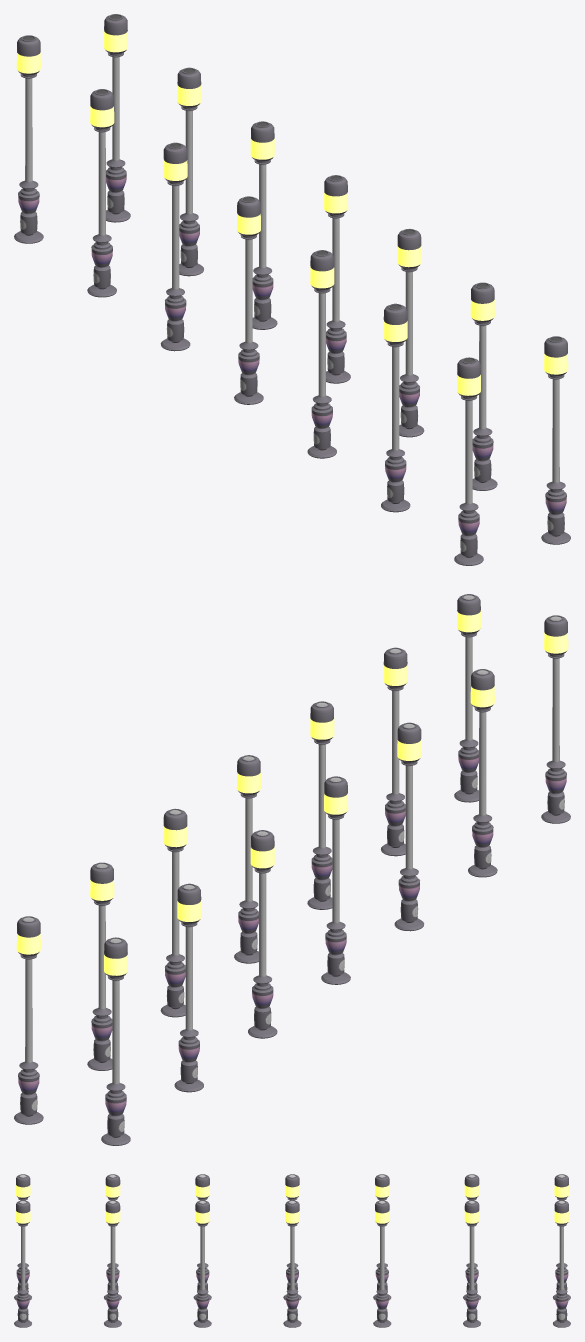
Rendered from LampostRow_Separate.glb.
3 renders of one model, top to bottom at view 1: azimuth 30°, elevation 25°; view 2: azimuth 150°, elevation 25°; view 3: azimuth 270°, elevation 25°, orthographic. The views are drawn at different scales.
Visible parts, largest first — view 1: Lamp_LOD0.005, Lamp_LOD0.011, Lamp_LOD0.001, Lamp_LOD0.007, Lamp_LOD0.014, Lamp_LOD0.003, Lamp_LOD0.009, Lamp_LOD0.013, Lamp_LOD0.006, Lamp_LOD0.012, Lamp_LOD0.010, Lamp_LOD0.004 (+2 smaller); view 2: Lamp_LOD0.009, Lamp_LOD0.003, Lamp_LOD0.013, Lamp_LOD0.007, Lamp_LOD0.002, Lamp_LOD0.011, Lamp_LOD0.005, Lamp_LOD0.001, Lamp_LOD0.010, Lamp_LOD0.004, Lamp_LOD0.006, Lamp_LOD0.012 (+2 smaller); view 3: Lamp_LOD0.004, Lamp_LOD0.012, Lamp_LOD0.002, Lamp_LOD0.014, Lamp_LOD0.006, Lamp_LOD0.010, Lamp_LOD0.008, Lamp_LOD0.003, Lamp_LOD0.011, Lamp_LOD0.007, Lamp_LOD0.001, Lamp_LOD0.013 (+2 smaller).
Boxes of the visible parts, box(x1,y1,x2,y2) form: Lamp_LOD0.005: box(160, 142, 190, 351); Lamp_LOD0.011: box(381, 303, 410, 512); Lamp_LOD0.001: box(14, 35, 43, 243); Lamp_LOD0.007: box(234, 196, 263, 404); Lamp_LOD0.014: box(541, 336, 570, 544); Lamp_LOD0.003: box(87, 89, 116, 297); Lamp_LOD0.009: box(307, 250, 336, 458); Lamp_LOD0.013: box(454, 357, 483, 565); Lamp_LOD0.006: box(250, 121, 277, 329); Lamp_LOD0.012: box(470, 282, 497, 490); Lamp_LOD0.010: box(397, 228, 424, 437); Lamp_LOD0.004: box(177, 67, 203, 276); Lamp_LOD0.009: box(394, 722, 424, 931); Lamp_LOD0.003: box(174, 883, 203, 1092); Lamp_LOD0.013: box(541, 615, 570, 823); Lamp_LOD0.007: box(321, 776, 350, 984); Lamp_LOD0.002: box(14, 916, 43, 1124); Lamp_LOD0.011: box(468, 669, 497, 877); Lamp_LOD0.005: box(248, 830, 277, 1038); Lamp_LOD0.001: box(101, 937, 130, 1145); Lamp_LOD0.010: box(307, 701, 334, 909); Lamp_LOD0.004: box(87, 862, 114, 1070); Lamp_LOD0.006: box(160, 808, 187, 1017); Lamp_LOD0.012: box(381, 647, 407, 856); Lamp_LOD0.004: box(463, 1200, 480, 1327); Lamp_LOD0.012: box(104, 1200, 121, 1327); Lamp_LOD0.002: box(553, 1200, 570, 1327); Lamp_LOD0.014: box(14, 1200, 31, 1327); Lamp_LOD0.006: box(373, 1200, 391, 1327); Lamp_LOD0.010: box(193, 1200, 211, 1327); Lamp_LOD0.008: box(283, 1200, 301, 1327); Lamp_LOD0.003: box(463, 1174, 480, 1300); Lamp_LOD0.011: box(104, 1174, 121, 1300); Lamp_LOD0.007: box(283, 1174, 301, 1300); Lamp_LOD0.001: box(553, 1174, 570, 1300); Lamp_LOD0.013: box(14, 1174, 31, 1300).
Size of what is drawn, in the model's own units: 3.11 by 5.25 by 21.71.
Materials: 2 (1 with a texture image).
